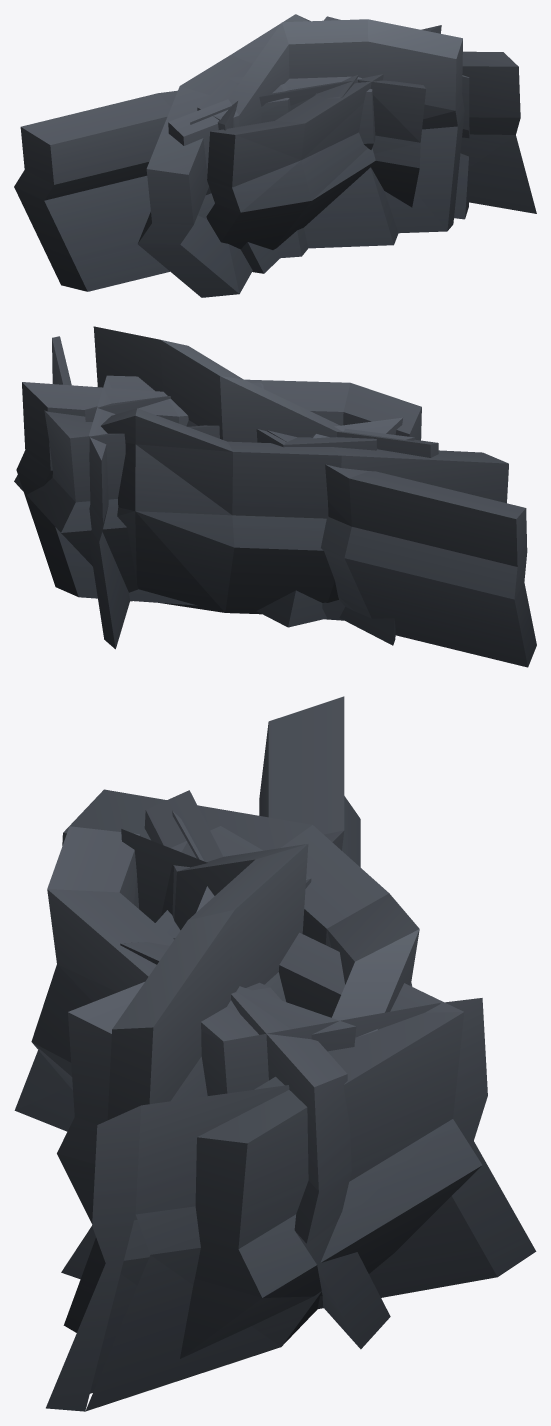
The model's file is Walls.fbx.
The picture shows the model from 3 angles, top to bottom: view 1: azimuth 30°, elevation 25°; view 2: azimuth 150°, elevation 25°; view 3: azimuth 270°, elevation 25°; orthographic projection. The views are drawn at different scales.
Parts seen in each view (by area): view 1: Wall_0.008, Wall_0.007, Wall_0.006, Wall_0.005, Wall_0.004, Wall_0.003, Wall_0.002; view 2: Wall_0.007, Wall_0.008, Wall_0.006, Wall_0.005, Wall_0.002, Wall_0.001, Wall_0.004, Wall_0.003; view 3: Wall_0.008, Wall_0.007, Wall_0.005, Wall_0.006, Wall_0.002, Wall_0.003, Wall_0.004, Wall_0.001.
Part boxes in pixels (x1,y1,x2,y2): Wall_0.008: (14, 16, 469, 291); Wall_0.007: (138, 14, 536, 297); Wall_0.006: (168, 19, 464, 233); Wall_0.005: (206, 74, 383, 249); Wall_0.004: (197, 76, 398, 273); Wall_0.003: (190, 79, 425, 207); Wall_0.002: (316, 25, 441, 98); Wall_0.007: (52, 336, 508, 614); Wall_0.008: (14, 410, 536, 667); Wall_0.006: (93, 326, 438, 457); Wall_0.005: (89, 375, 421, 649); Wall_0.002: (16, 382, 395, 645); Wall_0.001: (256, 417, 402, 627); Wall_0.004: (85, 396, 376, 450); Wall_0.003: (322, 428, 414, 620); Wall_0.008: (180, 696, 482, 1358); Wall_0.007: (14, 789, 419, 1411); Wall_0.005: (31, 826, 536, 1308); Wall_0.006: (63, 790, 308, 1332); Wall_0.002: (120, 910, 390, 1349); Wall_0.003: (57, 810, 214, 1223); Wall_0.004: (61, 826, 356, 1279); Wall_0.001: (121, 829, 207, 922).
Size of the model in its own units: 44.71 by 18.61 by 22.74.
Materials: 1 (1 with a texture image).
